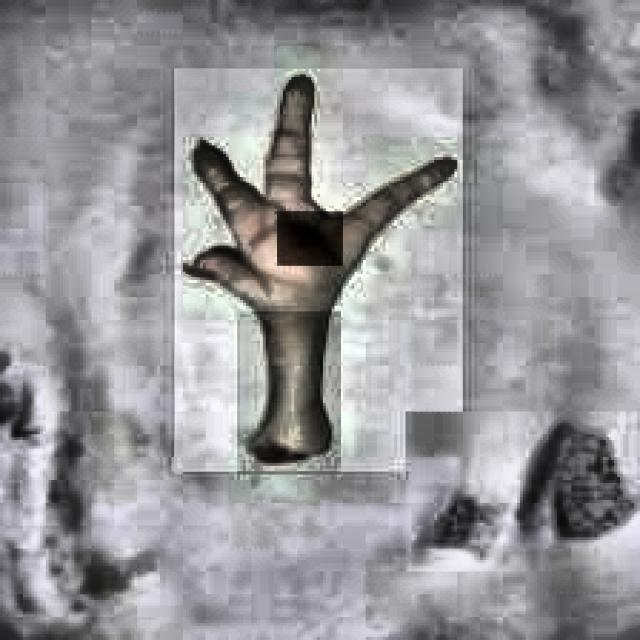Bumble foot: (180, 68, 457, 466), (271, 206, 346, 268)
